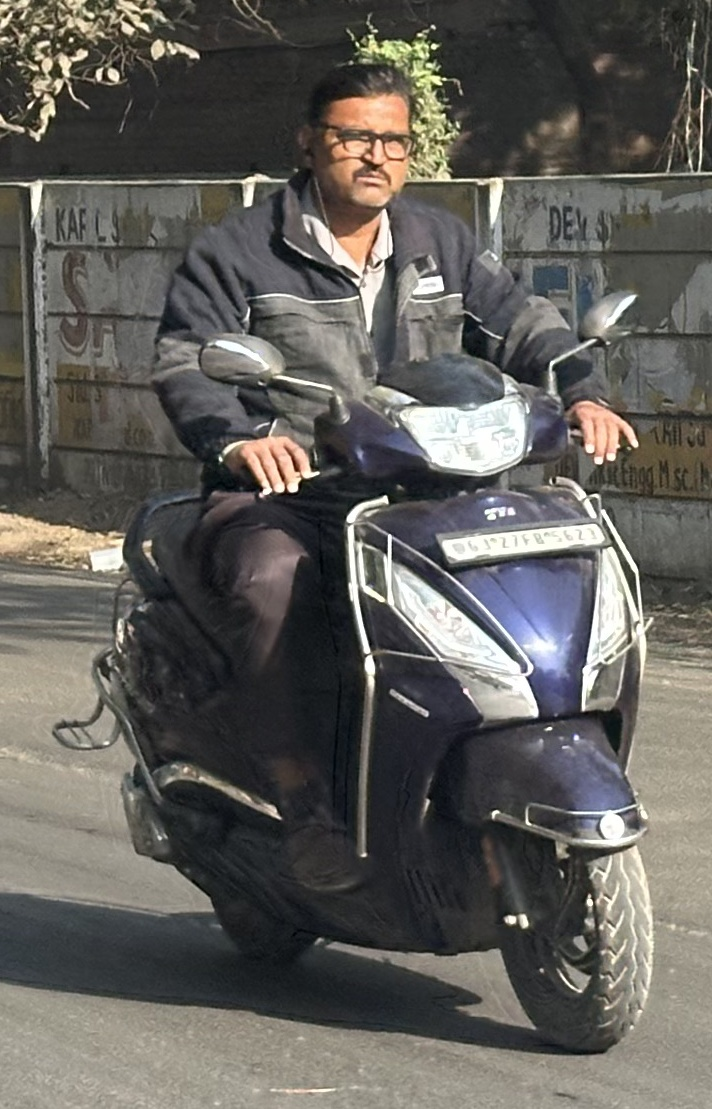BikeWithRider: (40, 36, 712, 1075)
NoHelmet: (290, 55, 439, 221)
